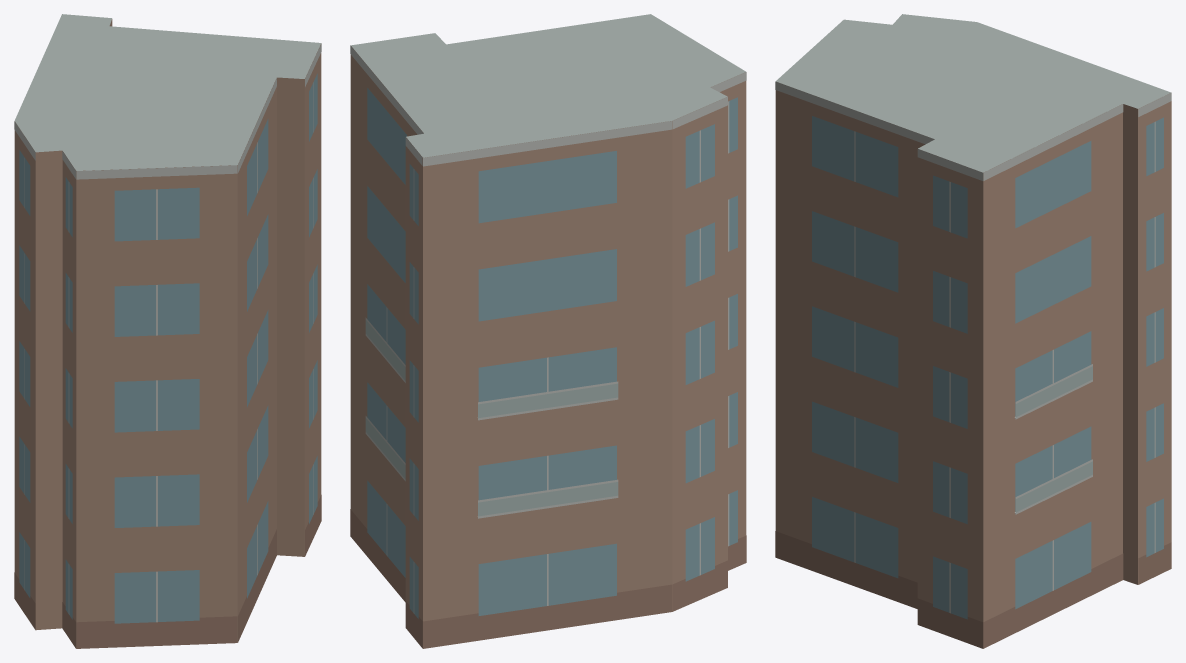
File: survey-upis-32719265.glb
3 views of the same model, side by side, from view 1: azimuth 30°, elevation 25°; view 2: azimuth 150°, elevation 25°; view 3: azimuth 270°, elevation 25° (orthographic). The views are drawn at different scales.
Visible parts, largest first — view 1: survey-upis-32719265.tmp; view 2: survey-upis-32719265.tmp; view 3: survey-upis-32719265.tmp.
Boxes of the visible parts, x1=… form: survey-upis-32719265.tmp: x1=14, y1=14, x2=321, y2=648; survey-upis-32719265.tmp: x1=350, y1=14, x2=746, y2=648; survey-upis-32719265.tmp: x1=775, y1=14, x2=1171, y2=648.
Size of the model in its own units: 9.73 by 13.6 by 10.26.
